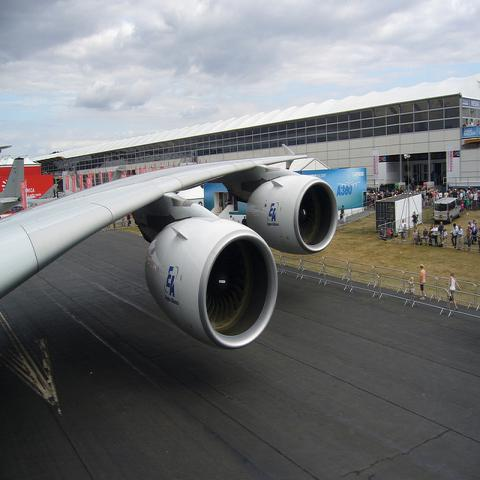bus: (433, 198, 462, 224)
truck: (434, 196, 462, 224)
